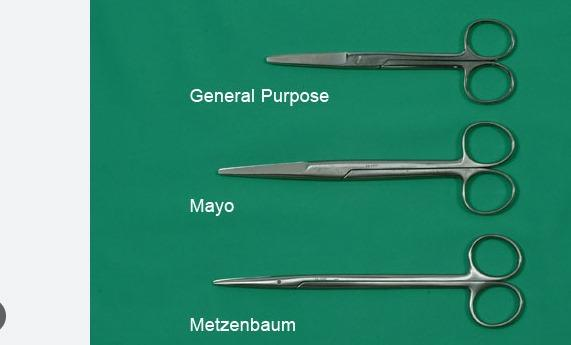Metzenbaum Sciccors: (196, 227, 539, 331)
Straight Mayo: (215, 117, 527, 219)
